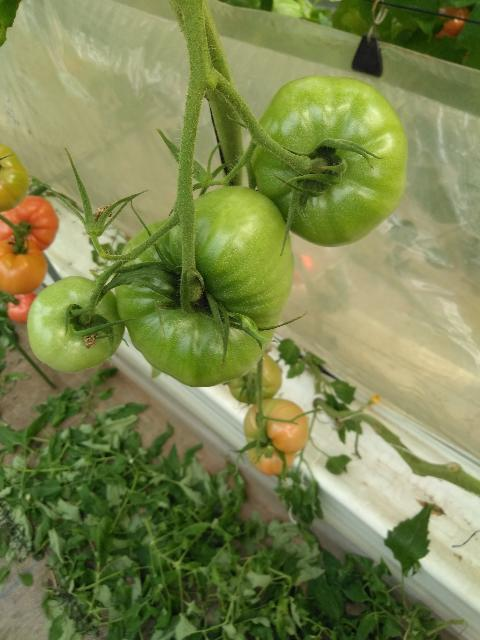b_fully_ripened: (0, 194, 59, 251)
b_green: (114, 185, 294, 388), (249, 75, 408, 248), (28, 276, 125, 373), (227, 352, 283, 405)
b_half_ripened: (244, 398, 309, 476), (0, 239, 47, 295), (0, 143, 30, 212), (8, 292, 37, 325)
